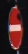No entry: (6, 6, 23, 49)
